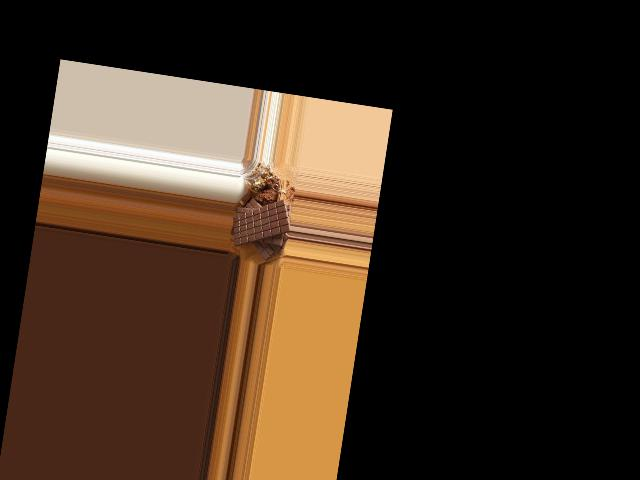chocolate: (231, 189, 294, 254)
